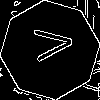V: (25, 25, 74, 64)
